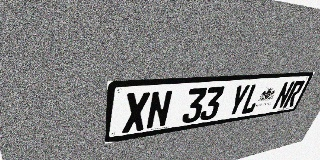3: (181, 87, 208, 124), (199, 86, 225, 121)
L: (240, 83, 265, 115)
N: (145, 90, 173, 130), (271, 81, 295, 110)
R: (282, 80, 306, 108)
X: (122, 92, 150, 133)
Y: (225, 84, 251, 117)
